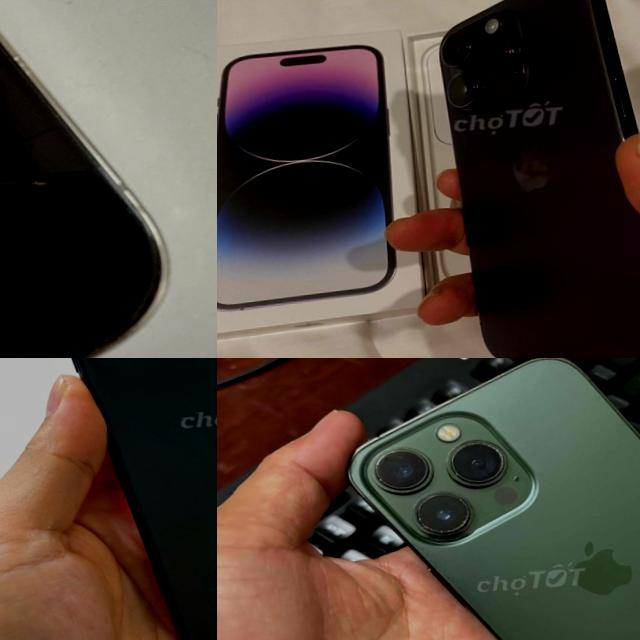gen_11: (13, 358, 217, 640)
gen_12_13: (339, 358, 640, 640)
gen_14: (418, 0, 640, 358), (0, 0, 190, 358)
scratch: (98, 320, 136, 342), (13, 52, 36, 82), (67, 346, 99, 358)
